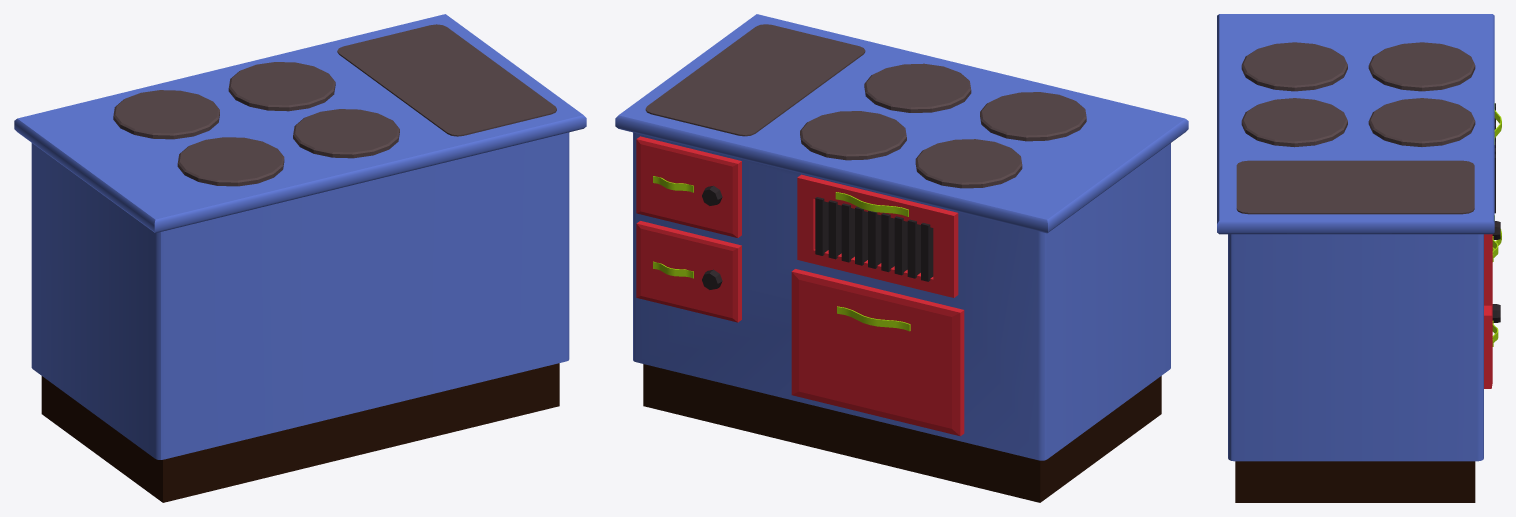
Rendered from stove.fbx.
3 views of the same model, side by side, from view 1: azimuth 30°, elevation 25°; view 2: azimuth 150°, elevation 25°; view 3: azimuth 270°, elevation 25° (orthographic).
Visible parts, largest first — view 1: Cube.001, Cube.009; view 2: Cube.001, Cube.002, Cube.009, Cube.007, Plane.001; view 3: Cube.001, Cube.009, Cube.002, Cube.007, Plane.001.
Boxes of the visible parts, left/top/right/bottom form: Cube.001: left=14, top=14, right=586, bottom=502; Cube.009: left=113, top=24, right=556, bottom=186; Cube.001: left=615, top=14, right=1188, bottom=502; Cube.002: left=636, top=136, right=964, bottom=436; Cube.009: left=645, top=24, right=1086, bottom=188; Cube.007: left=702, top=185, right=933, bottom=289; Plane.001: left=653, top=176, right=910, bottom=331; Cube.001: left=1217, top=14, right=1494, bottom=502; Cube.009: left=1236, top=42, right=1475, bottom=214; Cube.002: left=1484, top=234, right=1492, bottom=388; Cube.007: left=1492, top=103, right=1500, bottom=322; Plane.001: left=1492, top=103, right=1501, bottom=346.
Bounding box in the file's own units: 82.29 × 143 × 94.02.
